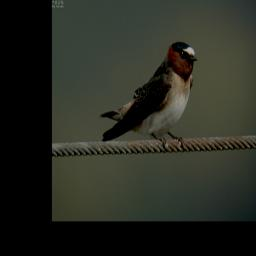Swallow: (98, 37, 201, 149)
